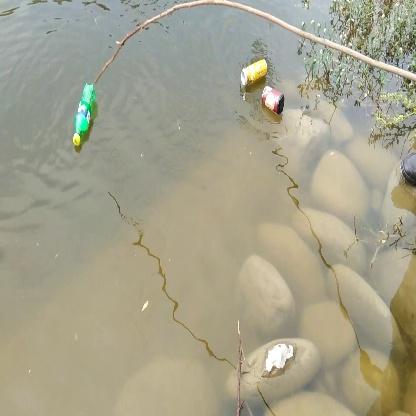bottle: (70, 82, 97, 149), (238, 54, 271, 86), (260, 85, 288, 117)
